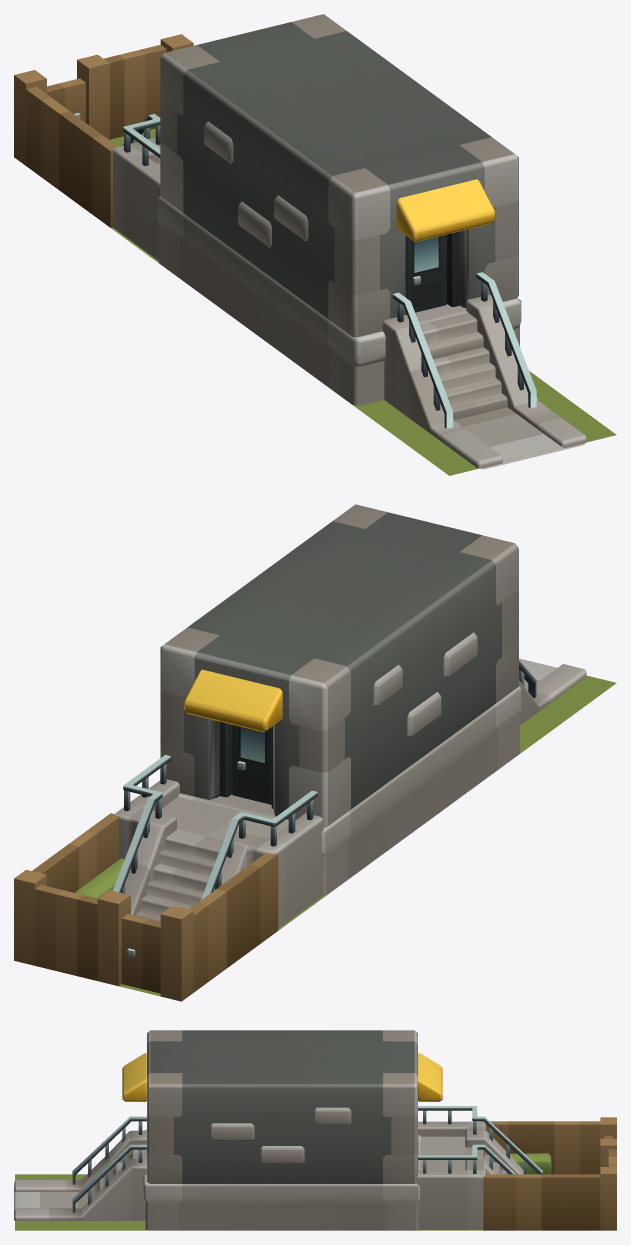
File: appartment_type1_x2_ground_grey.fbx
3 renders of one model, top to bottom at view 1: azimuth 30°, elevation 25°; view 2: azimuth 150°, elevation 25°; view 3: azimuth 270°, elevation 25°, orthographic. The views are drawn at different scales.
Parts seen in each view (by area): view 1: appartment_type1_x2_ground_grey, door_front_appartment_type1_x2_ground, door_garden_appartment_type1_x2_ground; view 2: appartment_type1_x2_ground_grey, door_back_appartment_type1_x2_ground, door_garden_appartment_type1_x2_ground; view 3: appartment_type1_x2_ground_grey.
Boxes of the visible parts, left/top/right/bottom form: appartment_type1_x2_ground_grey: left=14, top=14, right=616, bottom=475; door_front_appartment_type1_x2_ground: left=407, top=234, right=447, bottom=312; door_garden_appartment_type1_x2_ground: left=47, top=78, right=85, bottom=122; appartment_type1_x2_ground_grey: left=14, top=504, right=616, bottom=1001; door_back_appartment_type1_x2_ground: left=232, top=724, right=271, bottom=804; door_garden_appartment_type1_x2_ground: left=121, top=914, right=160, bottom=993; appartment_type1_x2_ground_grey: left=14, top=1030, right=616, bottom=1230.
Bounding box in the file's own units: 419 × 487 × 1803.
